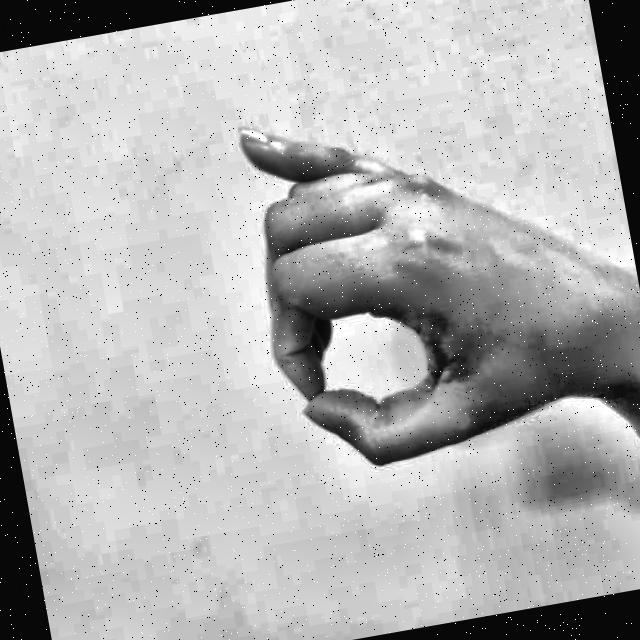Ou: (203, 49, 609, 538)
